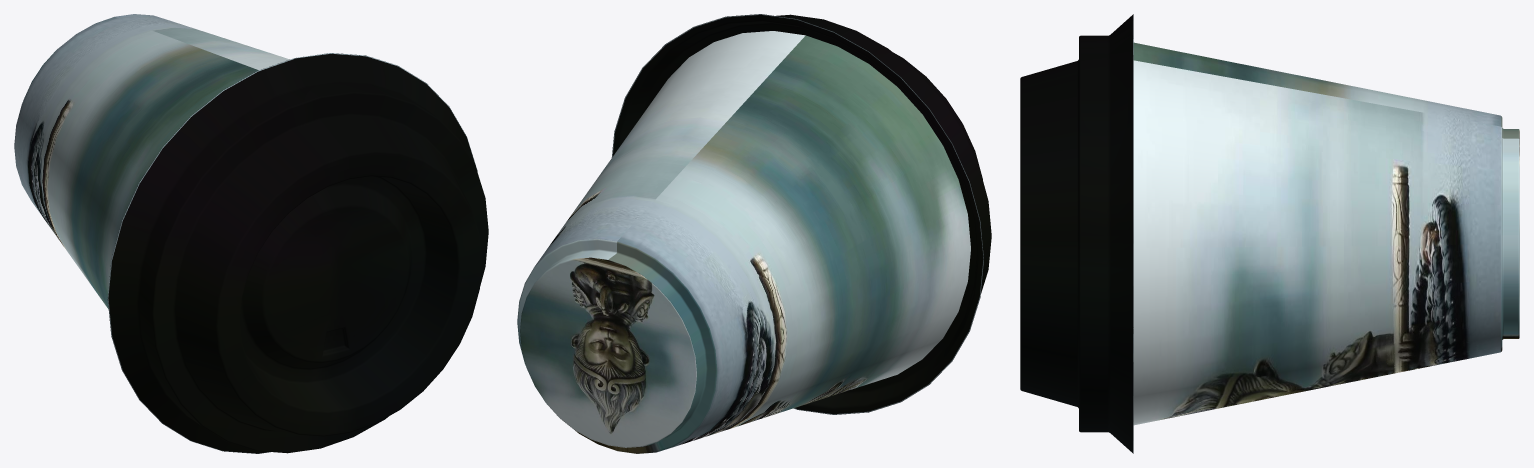
The picture shows the model from 3 angles, left to right: view 1: azimuth 30°, elevation 25°; view 2: azimuth 150°, elevation 25°; view 3: azimuth 270°, elevation 25°; orthographic projection. The views are drawn at different scales.
Visible parts, largest first — view 1: 柱体; view 2: 柱体; view 3: 柱体.
Boxes of the visible parts, x1,y1,x2,y2 form: 柱体: [14, 14, 488, 453]; 柱体: [517, 14, 991, 453]; 柱体: [1020, 14, 1519, 453].
Size of the model in its own units: 2.24 by 2.24 by 2.54.
2 materials, 2 textured.
